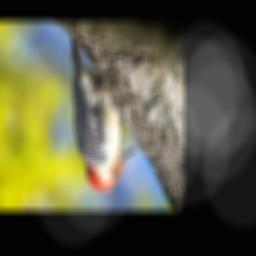Woodpecker: (71, 38, 141, 192)
